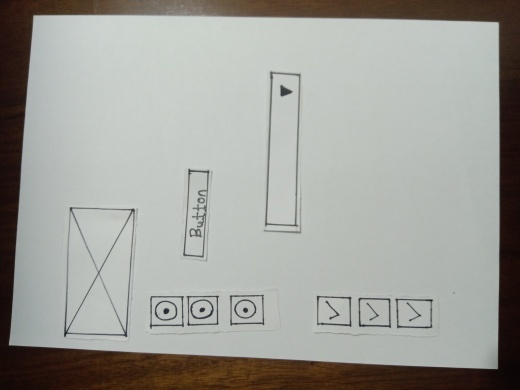button: (183, 170, 210, 258)
checkbox: (318, 297, 353, 328), (394, 296, 429, 327), (354, 296, 389, 327)
dropdown: (263, 69, 303, 228)
img: (69, 210, 139, 337)
radio: (227, 297, 261, 324), (188, 296, 222, 323), (149, 298, 183, 325)
